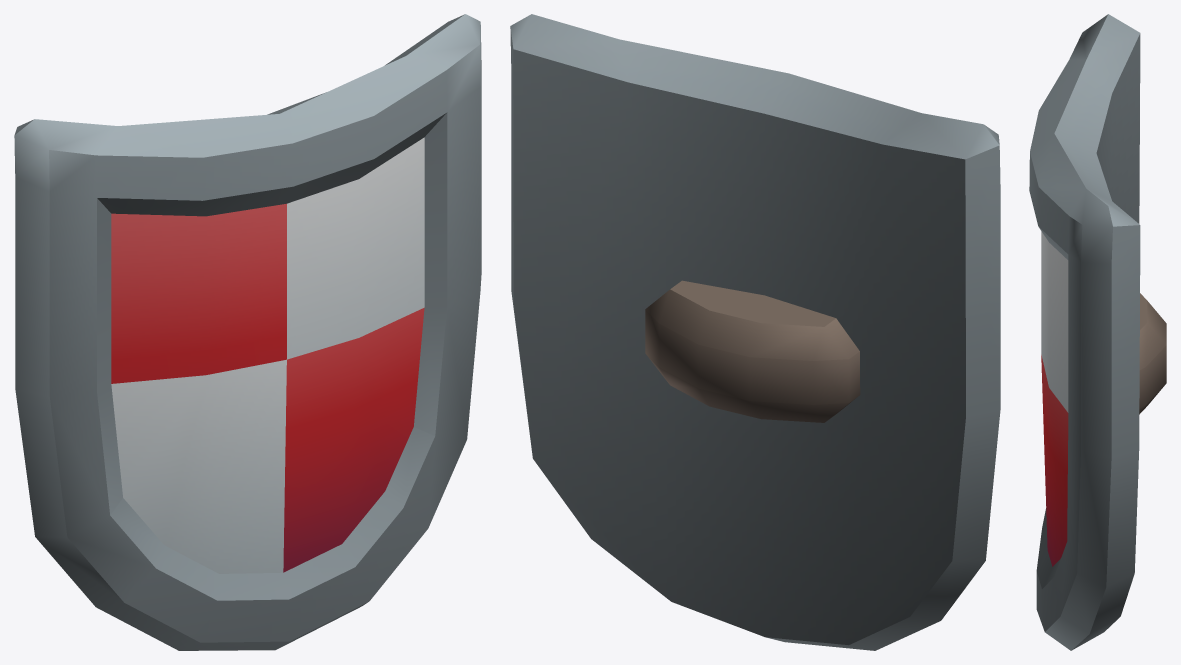
Rendered from shield_badge_color.glb.
The picture shows the model from 3 angles, left to right: view 1: azimuth 30°, elevation 25°; view 2: azimuth 150°, elevation 25°; view 3: azimuth 270°, elevation 25°; orthographic projection. The views are drawn at different scales.
Bounding box in the file's own units: 0.8826 × 1.02 × 0.2459.
Materials: 1 (1 with a texture image).
